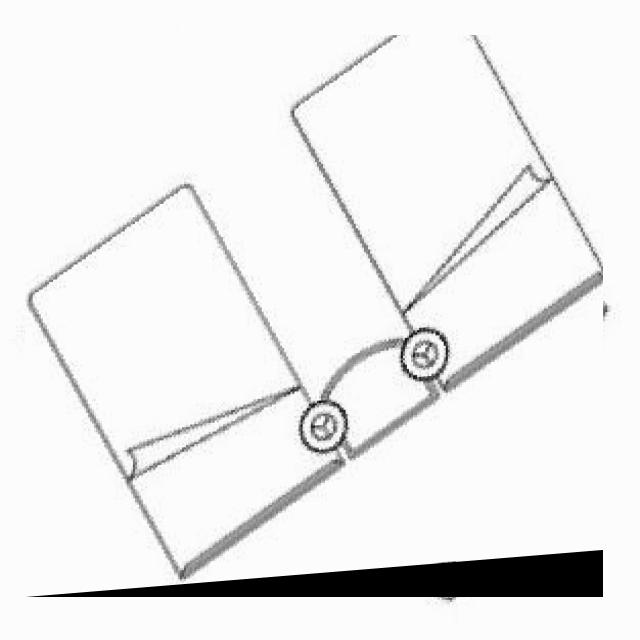bed: (25, 35, 603, 598)
